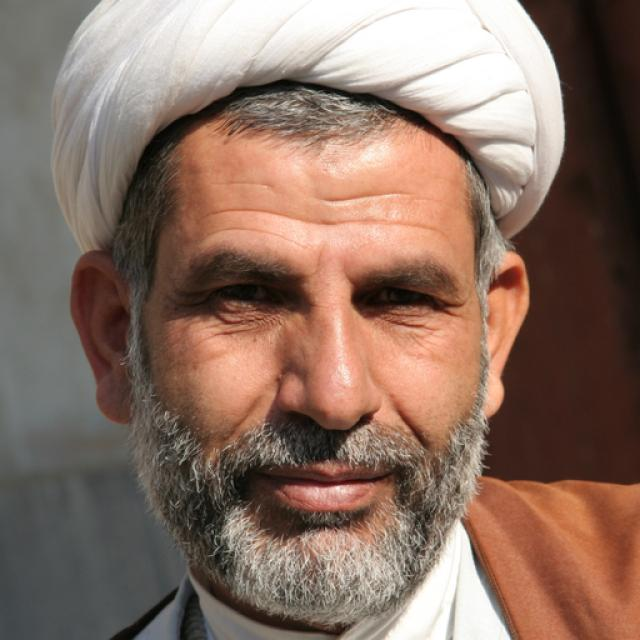Wrinkle: (204, 201, 448, 237), (197, 222, 308, 253), (324, 188, 412, 206), (200, 176, 281, 194)
